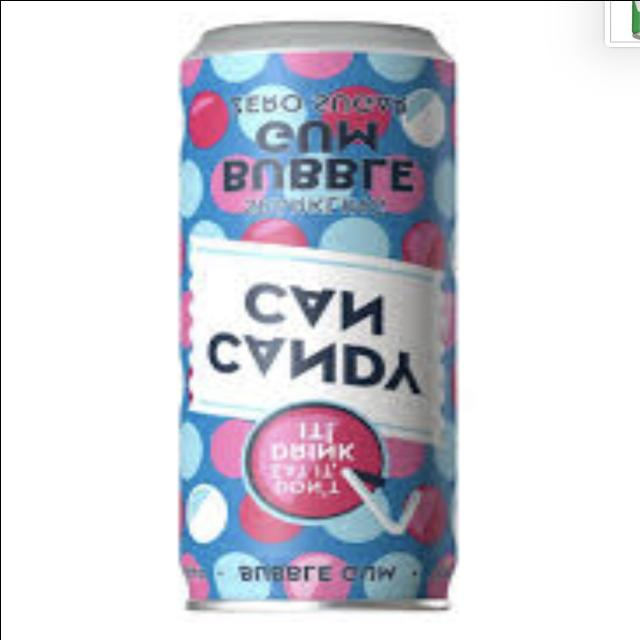can: (130, 1, 500, 636)
